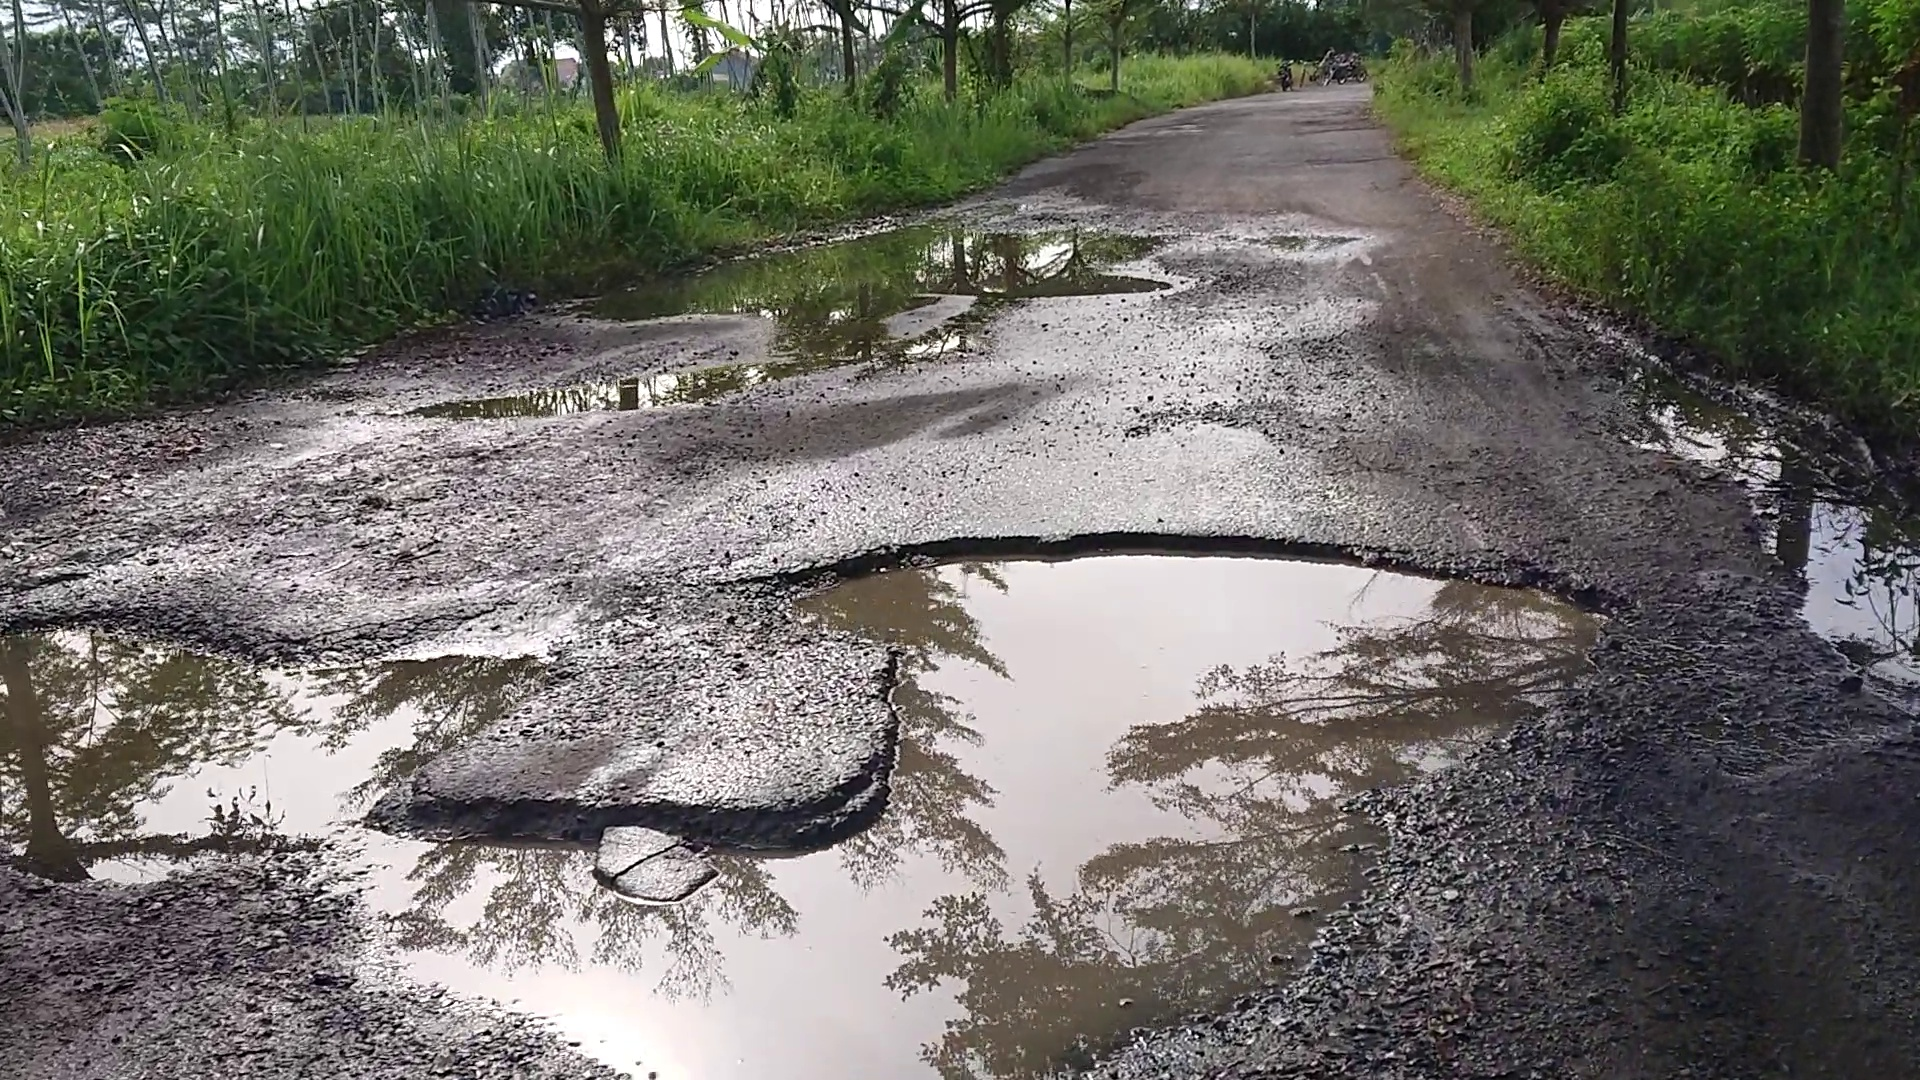Berlubang: (381, 560, 1648, 1072), (489, 204, 1245, 409), (1, 611, 375, 880)
